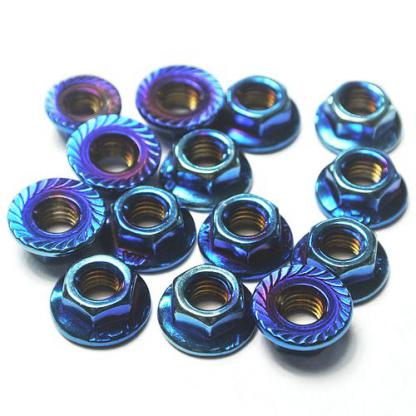FOD: (48, 256, 152, 349), (5, 176, 107, 262), (102, 183, 197, 275), (156, 124, 254, 210), (64, 112, 164, 192), (215, 74, 303, 155), (314, 78, 405, 156), (133, 64, 226, 137), (43, 74, 123, 138)
